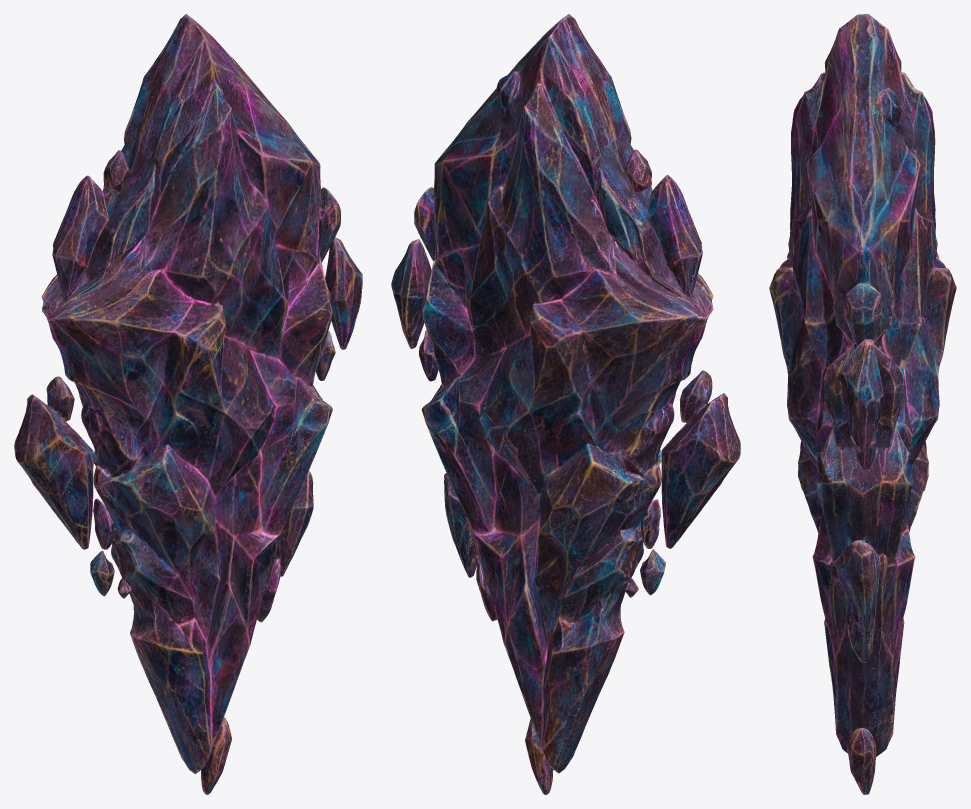
Rendered from rift-crystal.glb.
The picture shows the model from 3 angles, left to right: view 1: azimuth 30°, elevation 25°; view 2: azimuth 150°, elevation 25°; view 3: azimuth 270°, elevation 25°; orthographic projection.
Bounding box in the file's own units: 0.8705 × 1.9 × 0.4192.
1 material, 1 textured.
